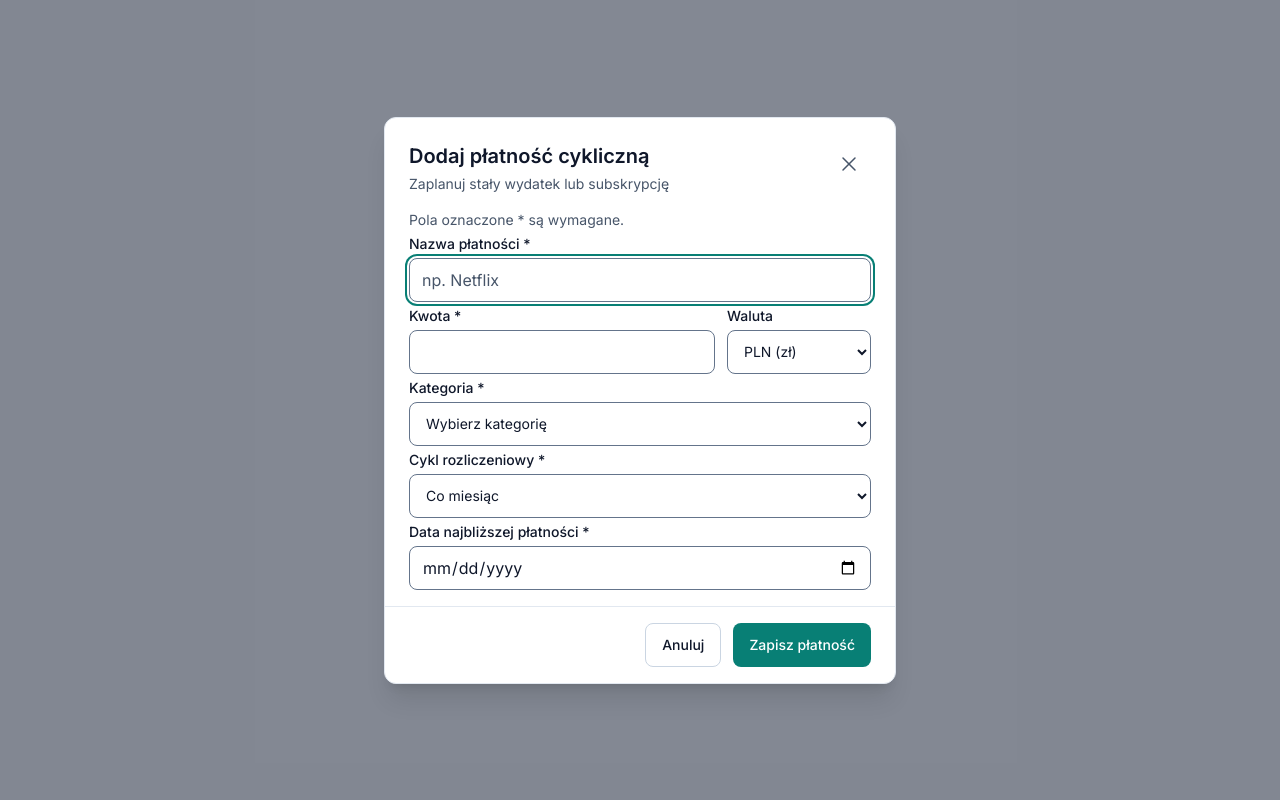
Scenario: RecurringPaymentDialog › does not send the date 2026-11-20, shows its message at the date and focuses it
Type "Netflix" into the field labelled "Nazwa płatności *" at (640, 280), box [409,258,871,302]
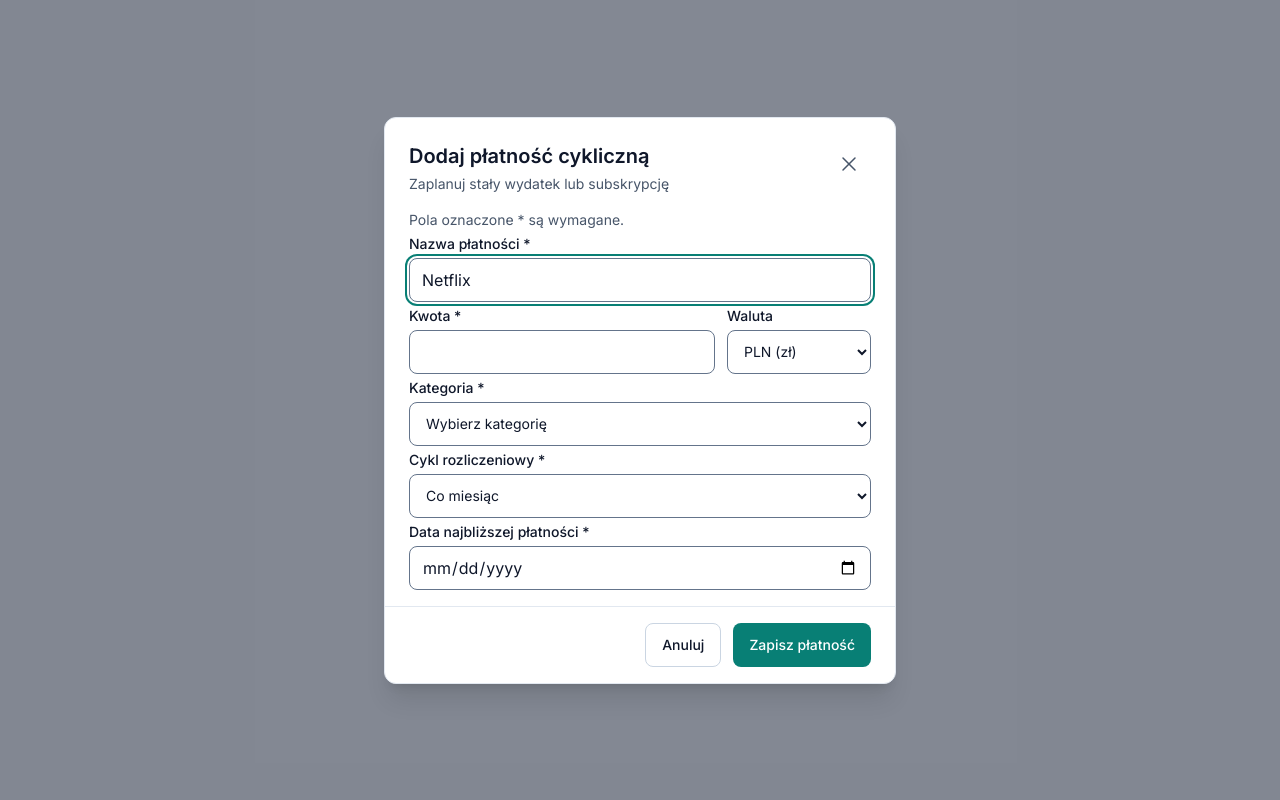
Type "43" into the field labelled "Kwota *" at (562, 352), box [409,330,715,374]
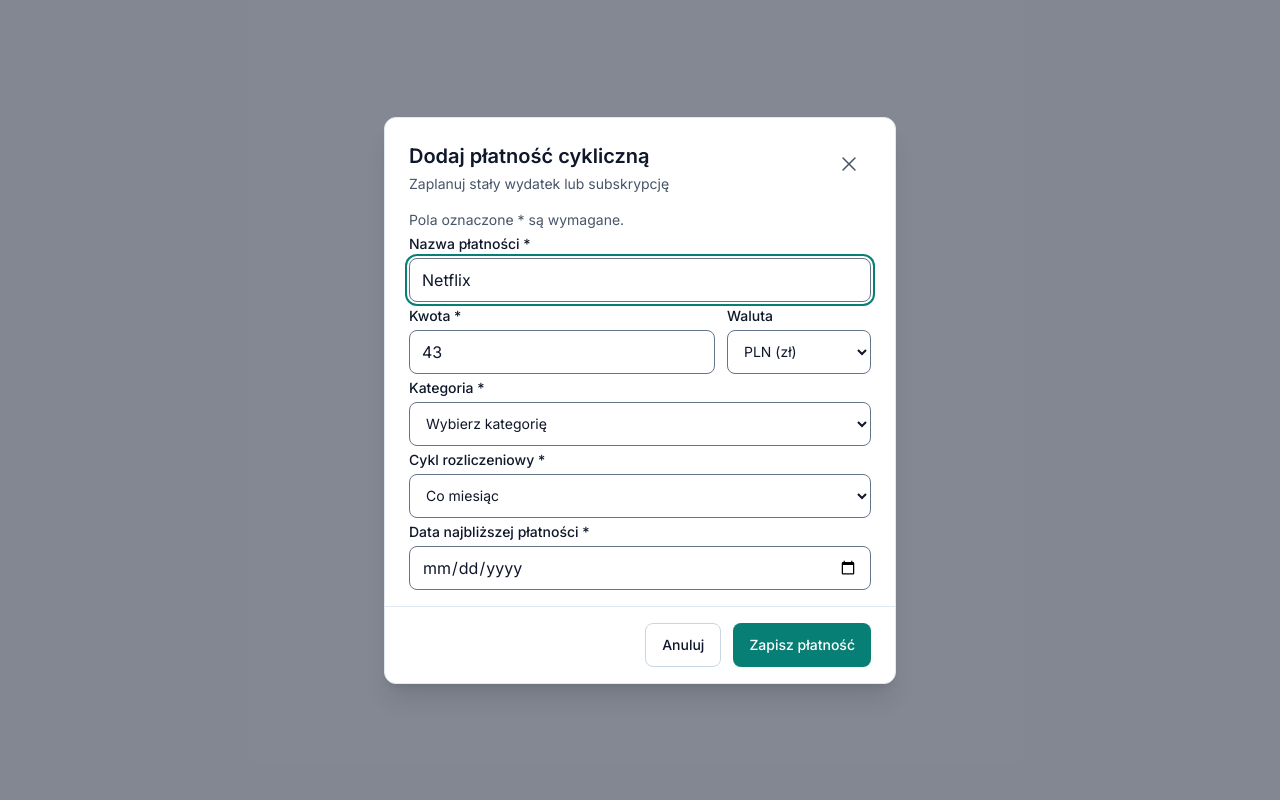
Select "Rozrywka" in the dropdown labelled "Kategoria *" at (640, 424), box [409,402,871,446]
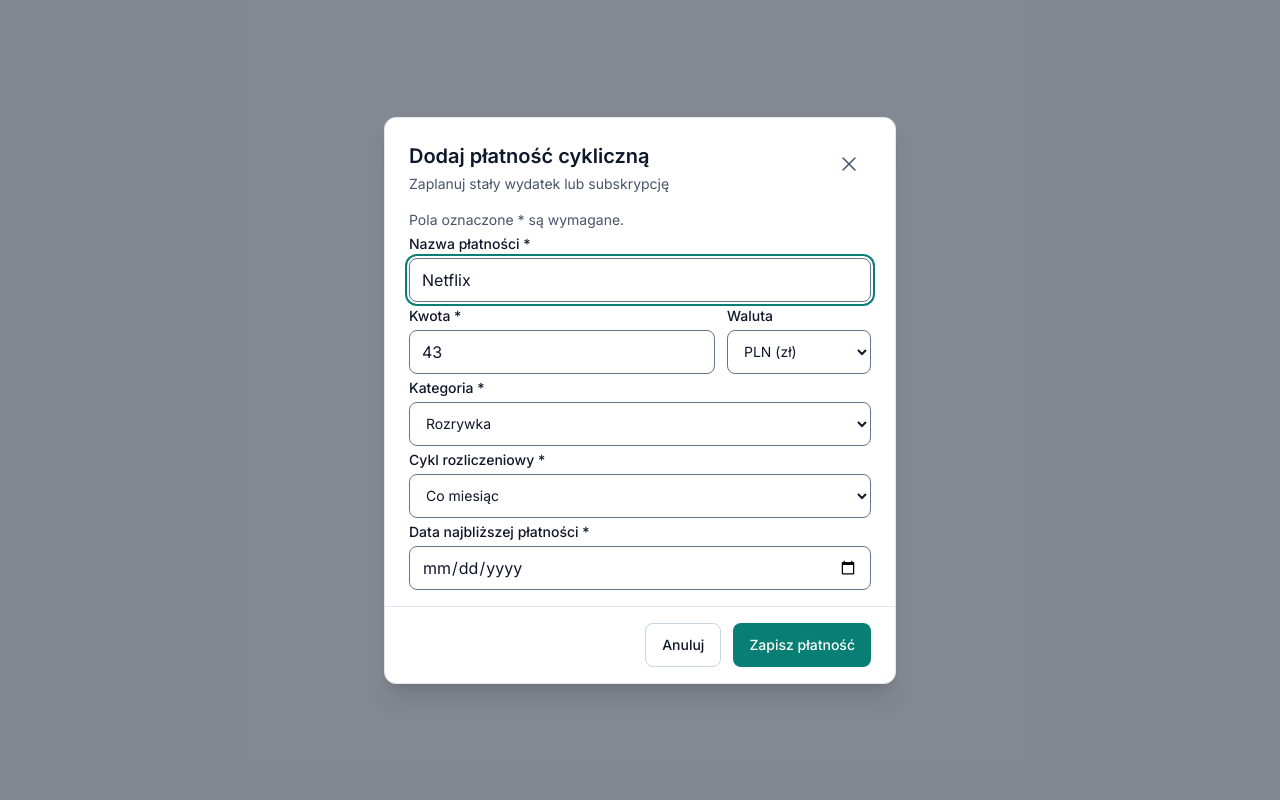
Type "2026-11-20" into the date field labelled "Data najbliższej płatności *" at (640, 568), box [409,546,871,590]
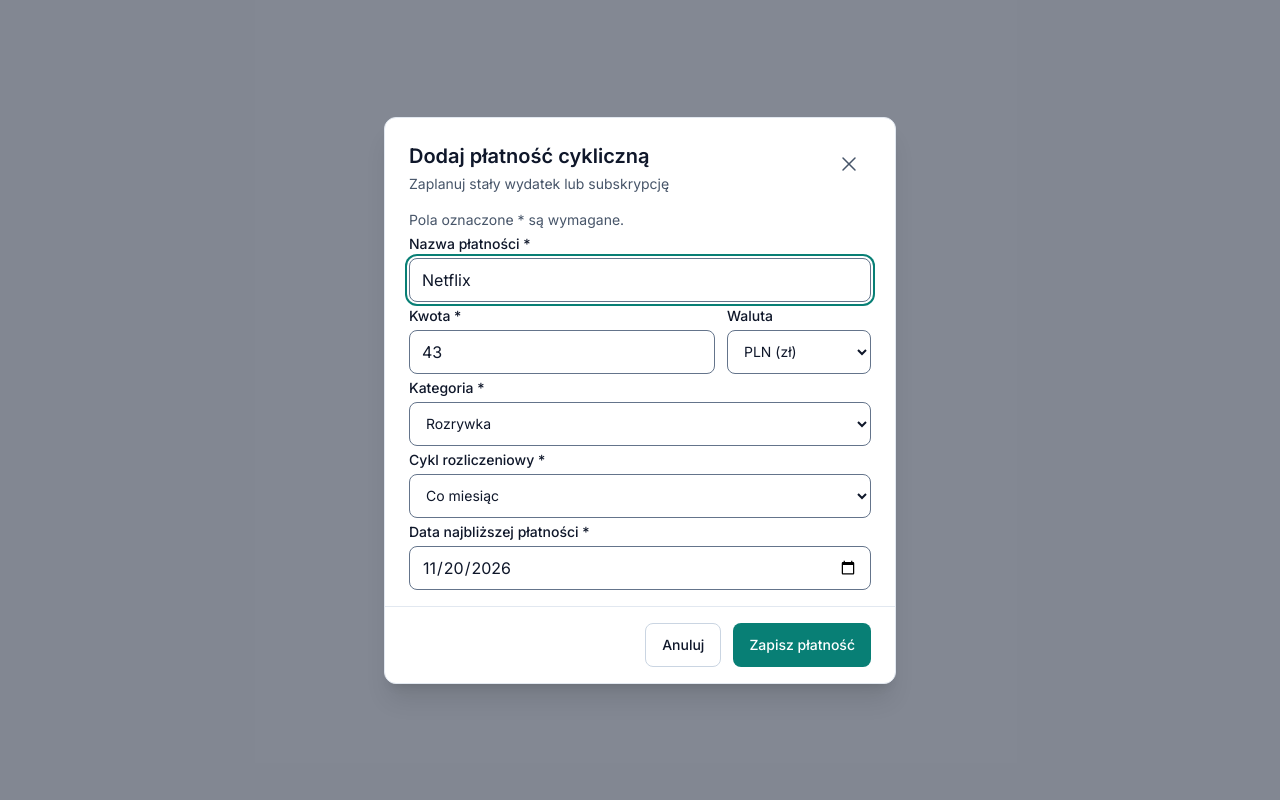
Click the button "Zapisz płatność" at (802, 644), box [733,622,871,666]
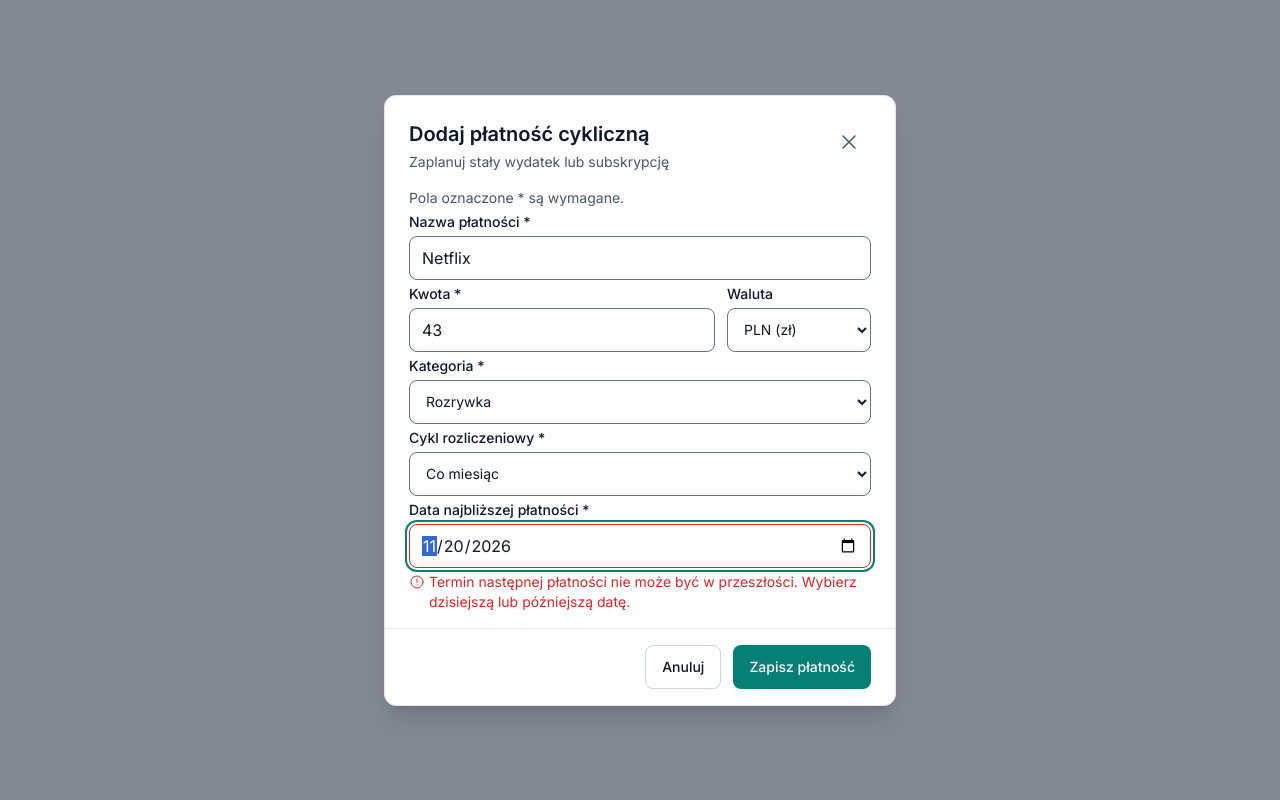
Now the message shows "Termin następnej płatności nie może być w przeszłości. Wybierz dzisiejszą lub późniejszą datę.", box [429,572,857,610]
